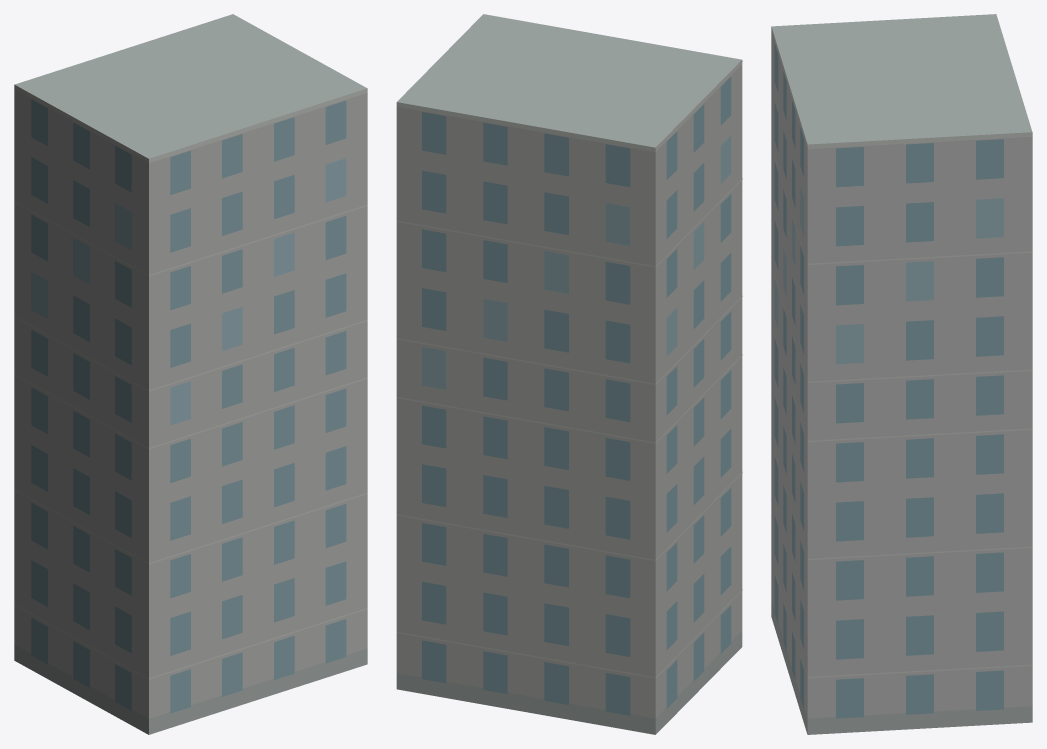
The model's file is residential-4afc25a6-db25-499f-8d67-7d739ded7894.glb.
3 renders of one model, left to right at view 1: azimuth 30°, elevation 25°; view 2: azimuth 150°, elevation 25°; view 3: azimuth 270°, elevation 25°, orthographic. The views are drawn at different scales.
Visible parts, largest first — view 1: residential-4afc25a6-db25-499f-8d67-7d739ded7894.tmp; view 2: residential-4afc25a6-db25-499f-8d67-7d739ded7894.tmp; view 3: residential-4afc25a6-db25-499f-8d67-7d739ded7894.tmp.
Part boxes in pixels (bbox=[...]): residential-4afc25a6-db25-499f-8d67-7d739ded7894.tmp: bbox=[14, 14, 367, 734]; residential-4afc25a6-db25-499f-8d67-7d739ded7894.tmp: bbox=[396, 14, 742, 734]; residential-4afc25a6-db25-499f-8d67-7d739ded7894.tmp: bbox=[771, 14, 1032, 734].
Bounding box in the file's own units: 14.49 × 30.5 × 12.25.
